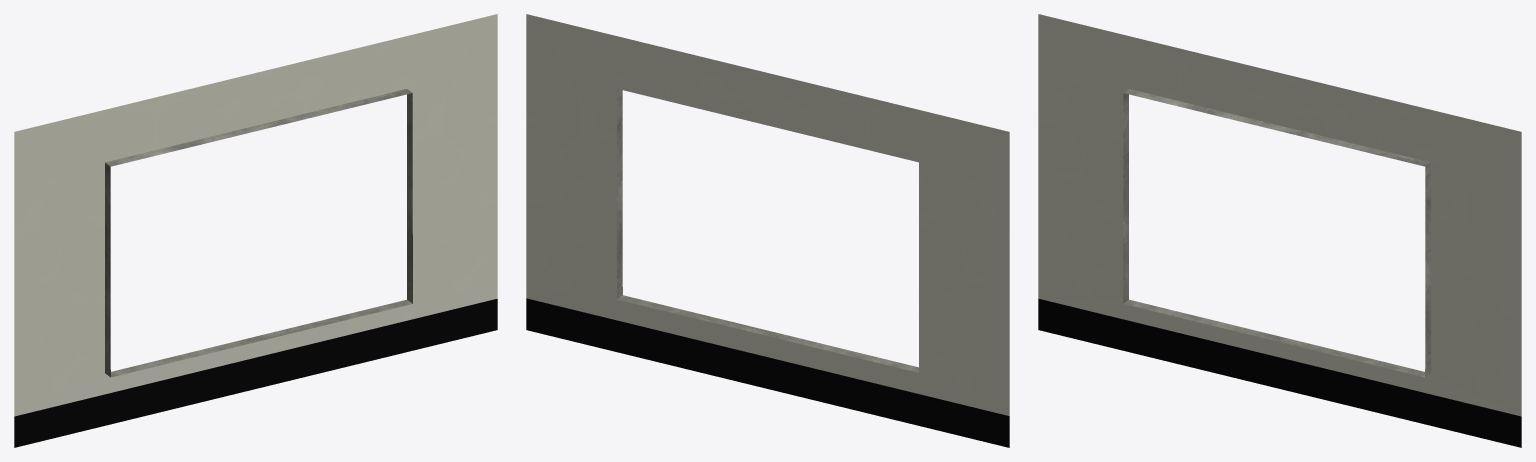
Rendered from CorridorEnd.glb.
The picture shows the model from 3 angles, left to right: view 1: azimuth 30°, elevation 25°; view 2: azimuth 150°, elevation 25°; view 3: azimuth 330°, elevation 25°; orthographic projection.
Visible parts, largest first — view 1: CorridorEnd; view 2: CorridorEnd; view 3: CorridorEnd.
Part boxes in pixels (box(x1,y1,x2,y2)): CorridorEnd: box(14, 14, 497, 447); CorridorEnd: box(526, 14, 1009, 447); CorridorEnd: box(1038, 14, 1521, 447).
Size of the model in its own units: 4.8 by 3 by 0.1024.
3 materials, 2 textured.
